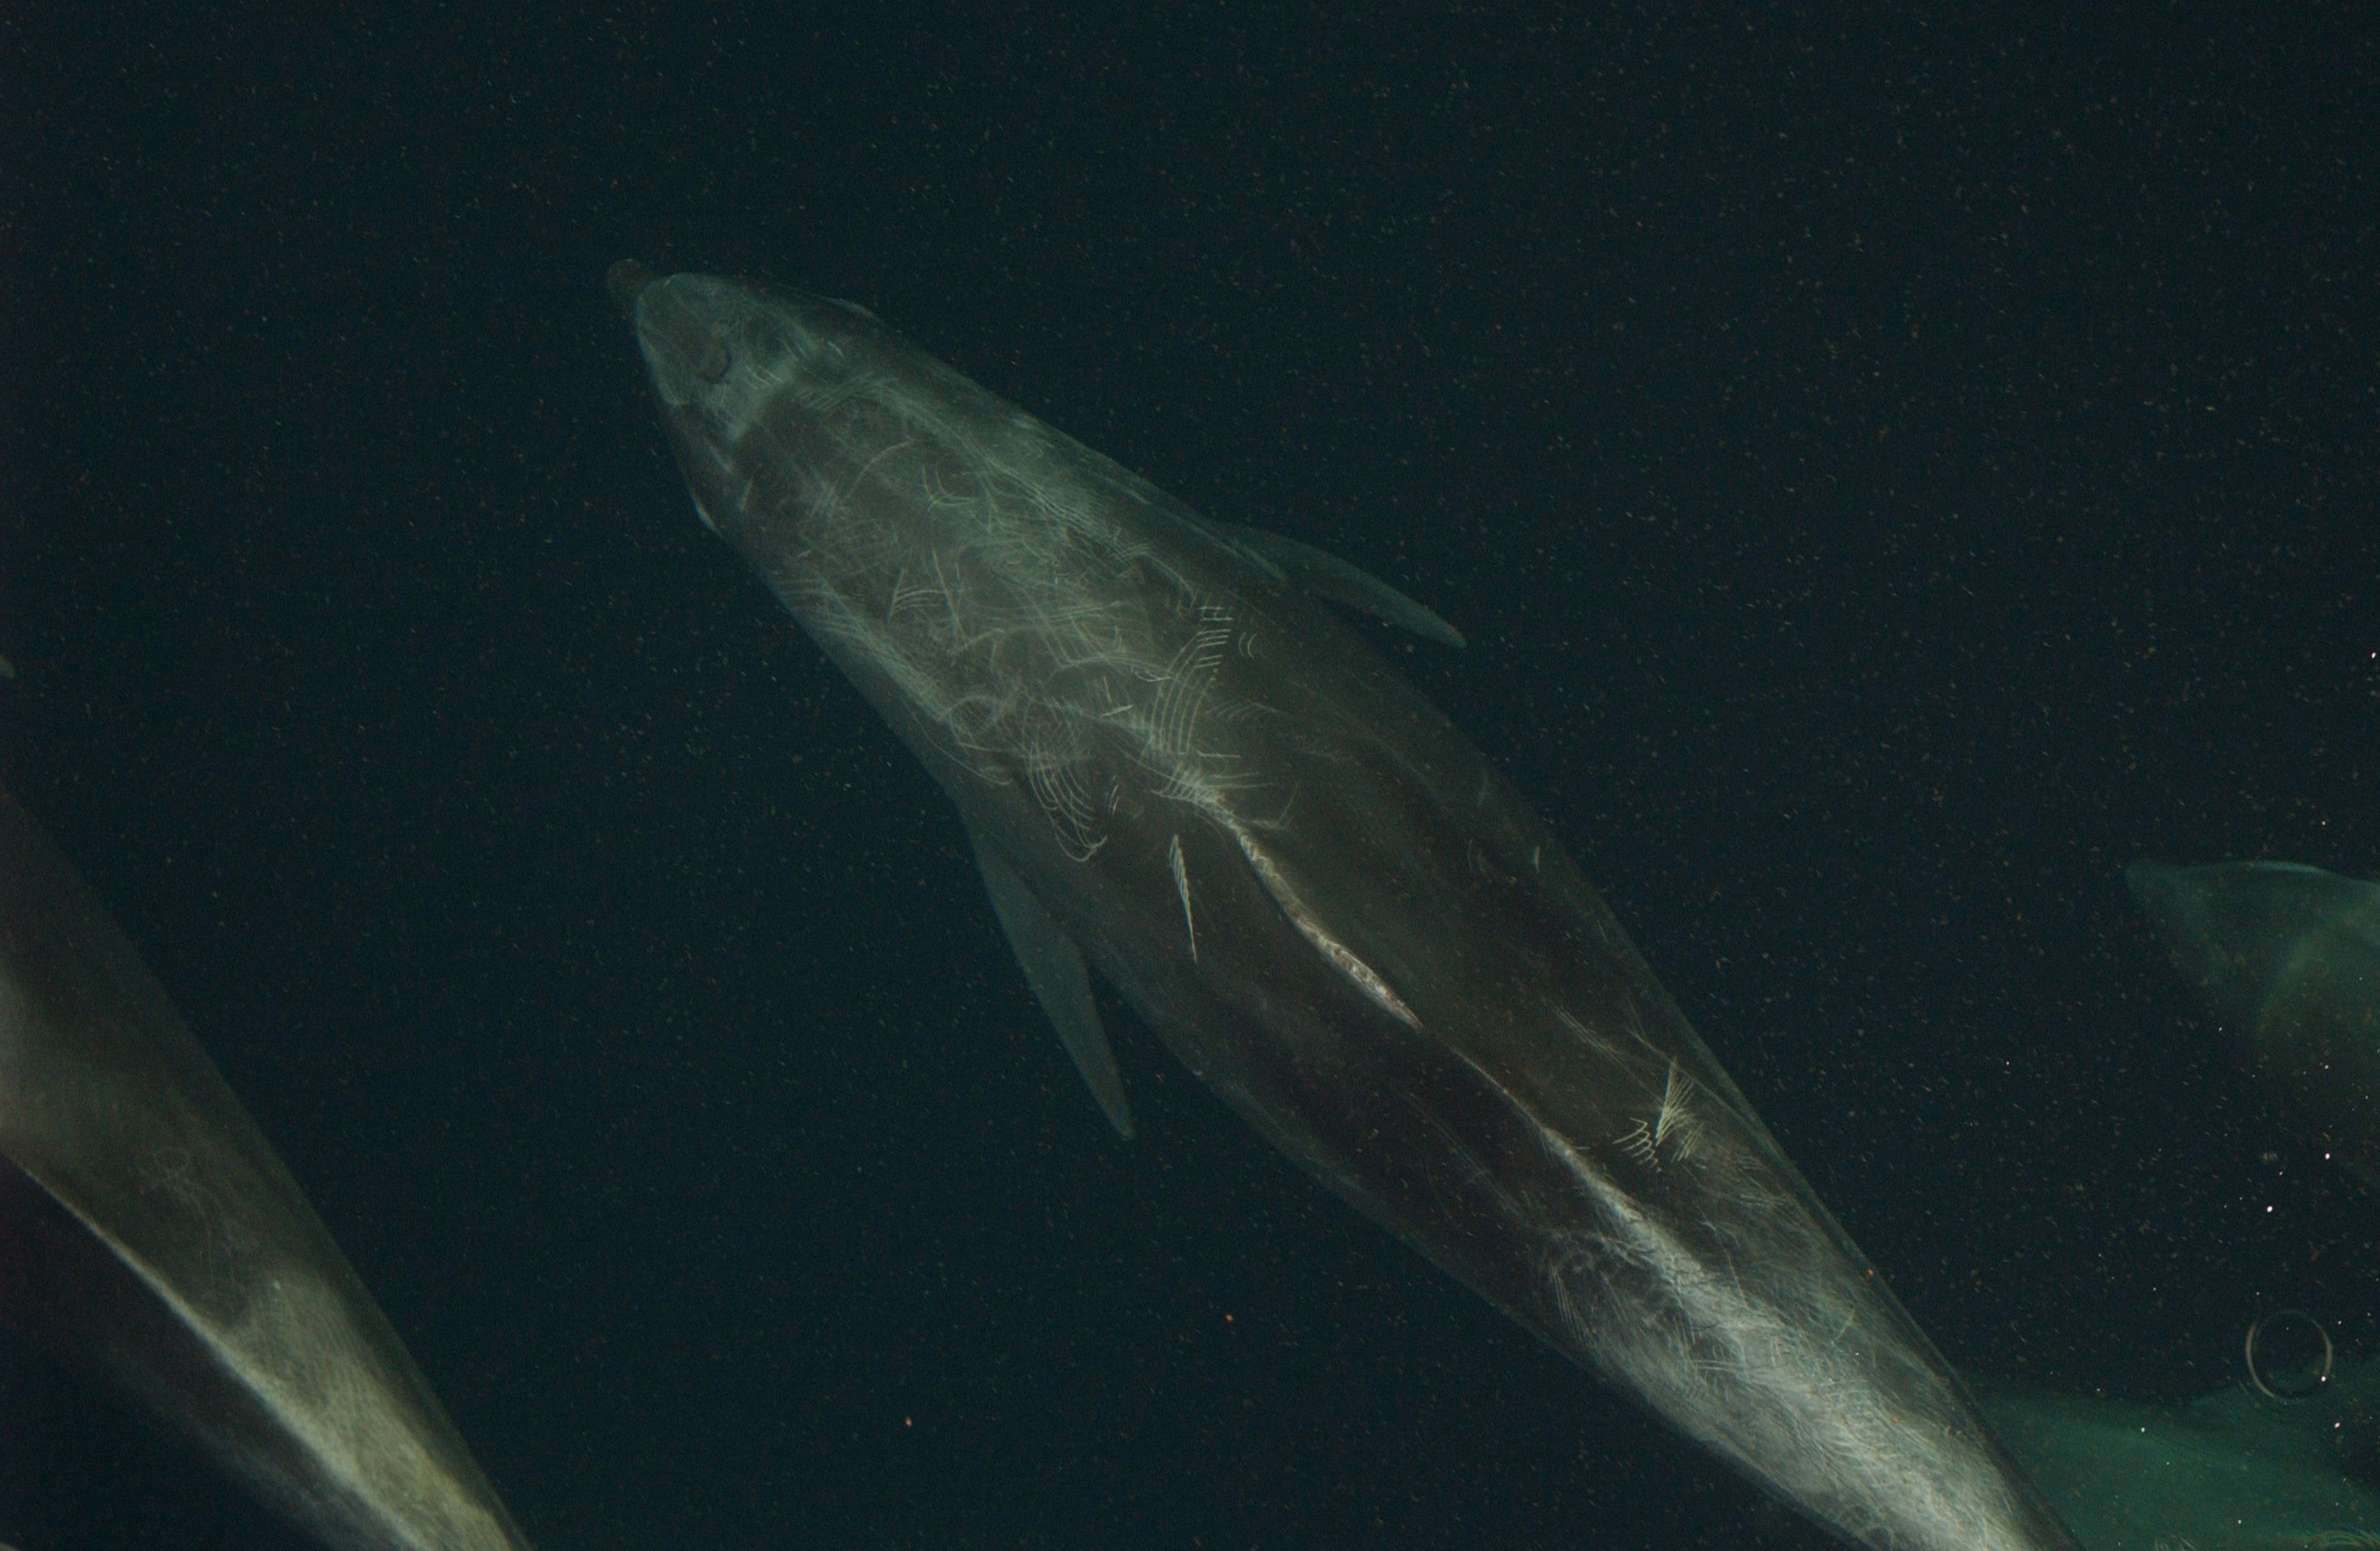dolphin: (602, 250, 2080, 1551)
